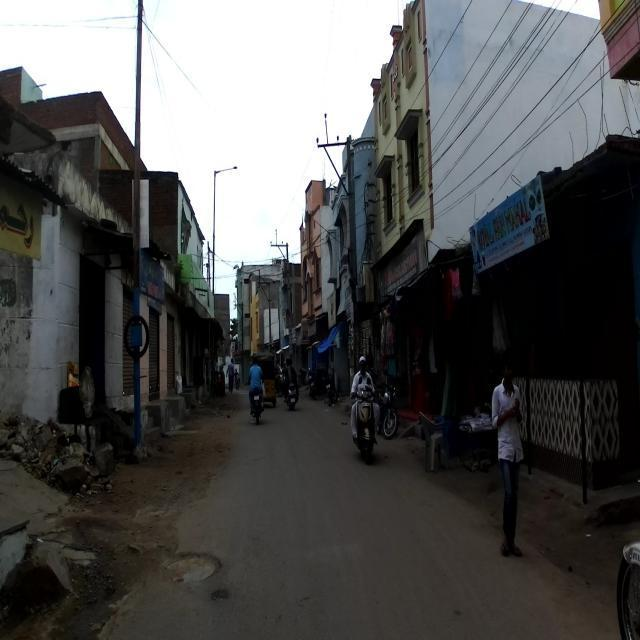Sewer Cover: (146, 533, 235, 600)
